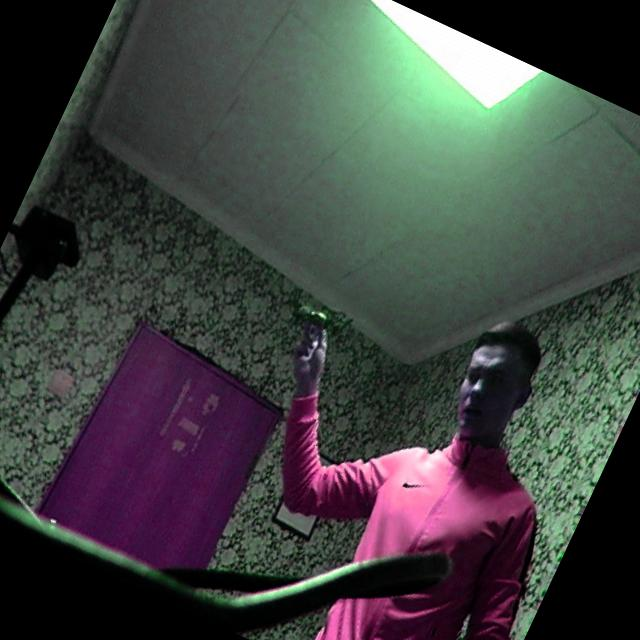drone: (270, 260, 376, 356)
